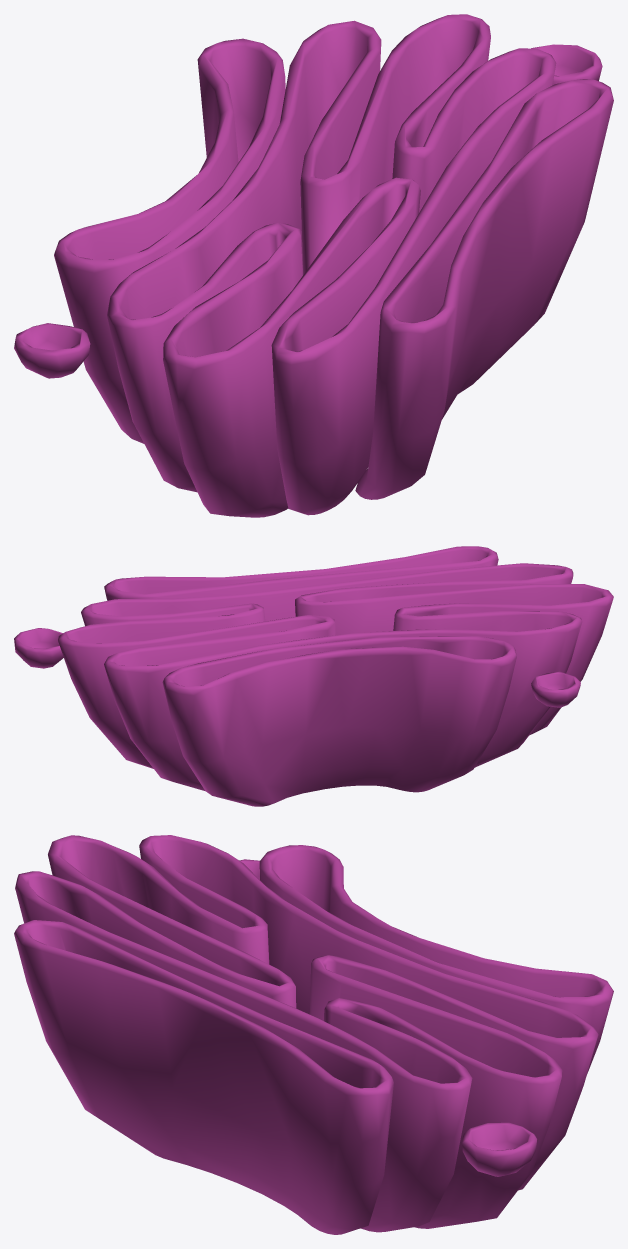
The model's file is Golgi Apparatus.glb.
The picture shows the model from 3 angles, top to bottom: view 1: azimuth 30°, elevation 25°; view 2: azimuth 150°, elevation 25°; view 3: azimuth 270°, elevation 25°; orthographic projection. The views are drawn at different scales.
Visible parts, largest first — view 1: BezierCurve.002; view 2: BezierCurve.002; view 3: BezierCurve.002.
Part boxes in pixels (<box>): BezierCurve.002: <box>14,14,613,517</box>; BezierCurve.002: <box>14,546,613,806</box>; BezierCurve.002: <box>14,835,613,1234</box>.
Size of the model in its own units: 2.32 by 0.731 by 1.92.
